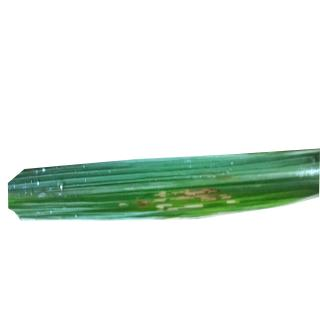Hawar-Daun: (137, 186, 231, 206)
